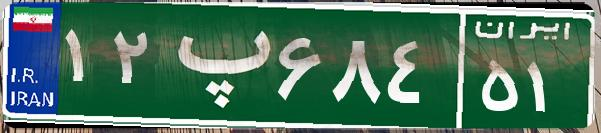1: (57, 26, 110, 107), (525, 38, 570, 115)
2: (110, 28, 158, 105)
4: (385, 28, 445, 110)
5: (475, 38, 525, 113)
6: (273, 28, 330, 110)
8: (330, 28, 385, 110)
پ: (158, 15, 273, 115)
